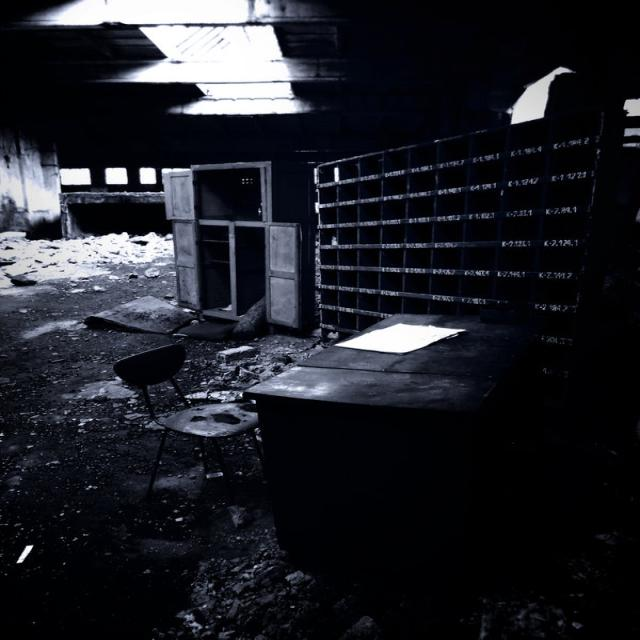Table: (234, 296, 582, 604)
chair: (89, 335, 250, 507)
